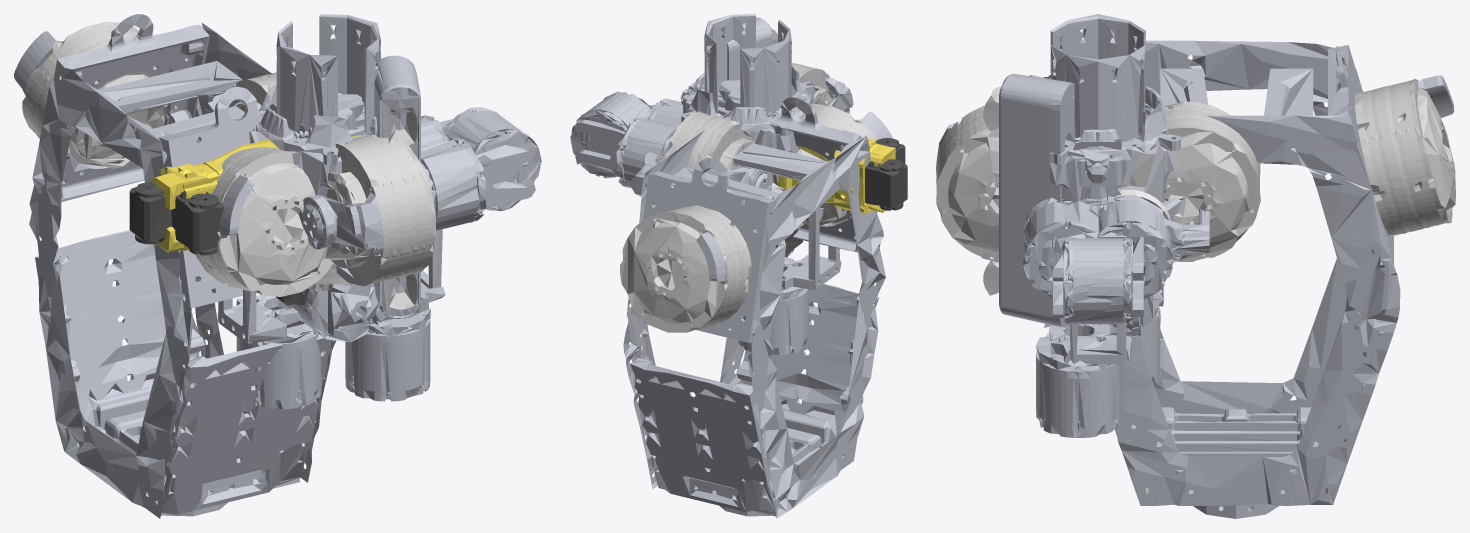
File: pack.glb
3 views of the same model, side by side, from view 1: azimuth 30°, elevation 25°; view 2: azimuth 150°, elevation 25°; view 3: azimuth 270°, elevation 25° (orthographic). The views are drawn at different scales.
Visible parts, largest first — view 1: chest_link, right_shoulder_pitch_link, torso_link, right_shoulder_roll_link, left_shoulder_roll_link, camera_link, left_wrist_pitch_link, base_link, so101_shoulder_lift_link, left_forearm_yaw_link, left_upper_arm_yaw_link, so101_elbow_flex_link (+4 smaller); view 2: chest_link, torso_link, left_shoulder_roll_link, left_shoulder_pitch_link, right_forearm_yaw_link, base_link, so101_elbow_flex_link, right_wrist_pitch_link, right_shoulder_pitch_link, camera_link, so101_shoulder_lift_link, so101_base_link (+3 smaller); view 3: chest_link, camera_link, left_shoulder_pitch_link, torso_link, right_shoulder_roll_link, right_shoulder_pitch_link, base_link, left_forearm_yaw_link, right_forearm_yaw_link, right_wrist_pitch_link, left_wrist_pitch_link, so101_base_link (+5 smaller).
Boxes of the visible parts, bbox=[...] form: chest_link: bbox=[14, 14, 335, 518]; right_shoulder_pitch_link: bbox=[302, 135, 436, 286]; torso_link: bbox=[276, 14, 380, 290]; right_shoulder_roll_link: bbox=[345, 229, 445, 401]; left_shoulder_roll_link: bbox=[217, 289, 321, 409]; camera_link: bbox=[374, 55, 420, 318]; left_wrist_pitch_link: bbox=[421, 138, 487, 230]; base_link: bbox=[236, 84, 377, 196]; so101_shoulder_lift_link: bbox=[152, 139, 278, 255]; left_forearm_yaw_link: bbox=[442, 107, 541, 210]; left_upper_arm_yaw_link: bbox=[278, 283, 380, 342]; so101_elbow_flex_link: bbox=[129, 161, 222, 250]; chest_link: bbox=[620, 97, 893, 518]; torso_link: bbox=[704, 14, 804, 231]; left_shoulder_roll_link: bbox=[738, 207, 841, 355]; left_shoulder_pitch_link: bbox=[663, 111, 778, 190]; right_forearm_yaw_link: bbox=[570, 92, 681, 176]; base_link: bbox=[681, 66, 814, 153]; so101_elbow_flex_link: bbox=[792, 138, 907, 214]; right_wrist_pitch_link: bbox=[615, 117, 677, 188]; right_shoulder_pitch_link: bbox=[791, 63, 853, 113]; camera_link: bbox=[727, 17, 777, 80]; so101_shoulder_lift_link: bbox=[792, 138, 905, 212]; so101_base_link: bbox=[683, 79, 802, 117]; chest_link: bbox=[1030, 40, 1455, 518]; camera_link: bbox=[983, 73, 1074, 327]; left_shoulder_pitch_link: bbox=[1130, 101, 1260, 261]; torso_link: bbox=[1050, 14, 1145, 188]; right_shoulder_roll_link: bbox=[1035, 323, 1131, 437]; right_shoulder_pitch_link: bbox=[936, 105, 998, 262]; base_link: bbox=[1048, 78, 1180, 203]; left_forearm_yaw_link: bbox=[1051, 196, 1134, 324]; right_forearm_yaw_link: bbox=[1062, 189, 1144, 324]; right_wrist_pitch_link: bbox=[1097, 190, 1173, 299]; left_wrist_pitch_link: bbox=[1023, 197, 1098, 298]; so101_base_link: bbox=[1077, 153, 1181, 221].
Bounding box in the file's own units: 0.2971 × 0.3636 × 0.3437.
